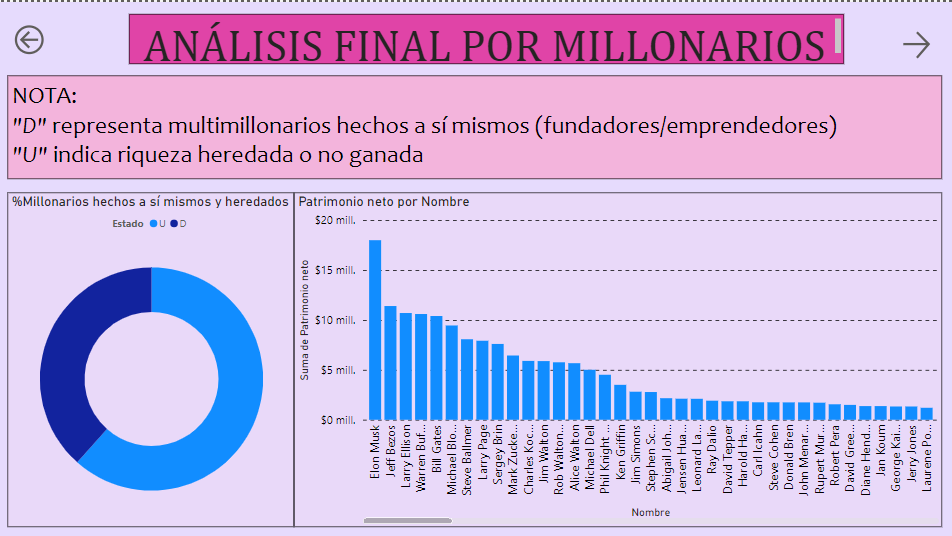

This screenshot's page, from the dashboard's own definition file:
{"tool":"powerbi","page":{"name":"Análisis final por millonarios","canvas":[1280,720],"ordinal":3},"visuals":[{"type":"donutChart","title":"%Millonarios hechos a sí mismos y heredados","fields":{"Category":["datos_limpios.status"],"Y":["datos_limpios.Porcentaje millonarios Hechos a Sí Mismos"]},"box":[14,254,382,446],"z":0},{"type":"columnChart","title":"Patrimonio neto por Nombre","fields":{"Category":["datos_limpios.Nombre"],"Y":["datos_limpios.Patrimonio neto"]},"box":[396,254,864,446],"z":1000},{"type":"textbox","box":[14,98,1246,138],"z":2000},{"type":"textbox","box":[160,16,954,68],"z":3000},{"type":"actionButton","box":[18,20,50,60],"z":4000}]}

Visuals, with their boxes in screenshot pixels (x1, y1, x2, y2), scaled from the page's 1280x720 canvas onto the 952x536 screenshot:
"%Millonarios hechos a sí mismos y heredados" donutChart: box(10, 189, 295, 521)
"Patrimonio neto por Nombre" columnChart: box(295, 189, 937, 521)
textbox: box(10, 73, 937, 176)
textbox: box(119, 12, 829, 63)
actionButton: box(13, 15, 51, 60)
